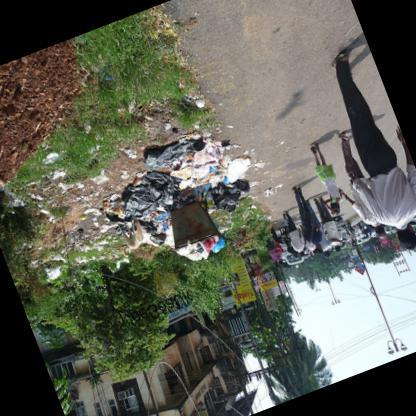Garbage: (64, 180, 152, 239), (141, 160, 214, 215), (129, 132, 188, 186), (210, 160, 258, 210), (180, 124, 228, 174), (174, 231, 231, 273), (138, 200, 174, 249), (252, 173, 297, 210), (218, 211, 252, 232), (188, 237, 218, 257)
